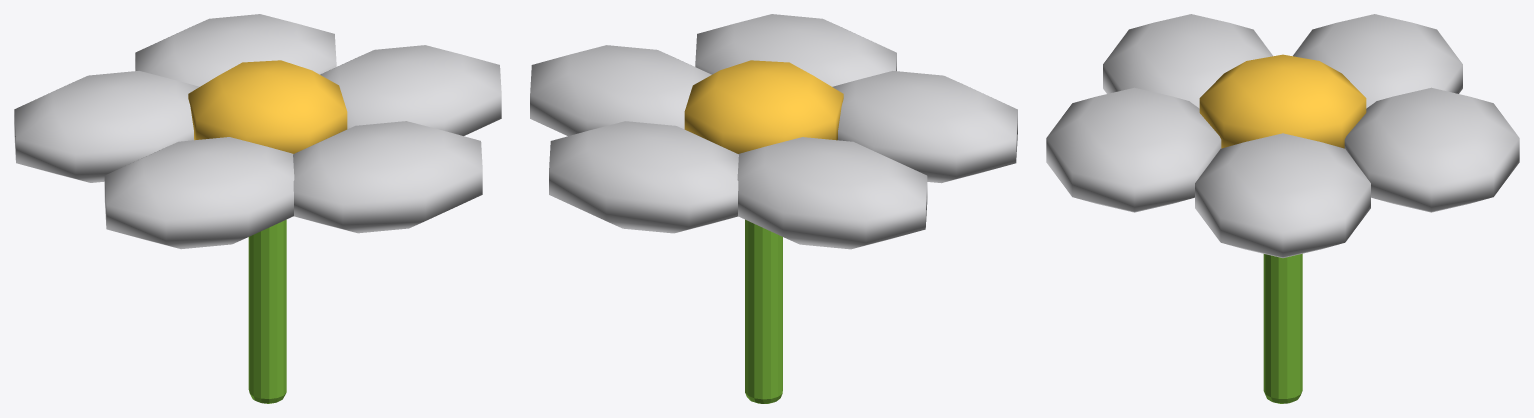
Rendered from flower.glb.
The picture shows the model from 3 angles, left to right: view 1: azimuth 30°, elevation 25°; view 2: azimuth 150°, elevation 25°; view 3: azimuth 270°, elevation 25°; orthographic projection.
Parts seen in each view (by area): view 1: white_mesh.014, gold_mesh.011, green_mesh; view 2: white_mesh.014, gold_mesh.011, green_mesh; view 3: white_mesh.014, gold_mesh.011, green_mesh.
Boxes of the visible parts, x1,y1,x2,y2 form: white_mesh.014: [14, 14, 501, 249]; gold_mesh.011: [188, 60, 347, 153]; green_mesh: [248, 219, 286, 403]; white_mesh.014: [530, 14, 1017, 249]; gold_mesh.011: [684, 60, 843, 153]; green_mesh: [745, 219, 782, 403]; white_mesh.014: [1046, 14, 1519, 257]; gold_mesh.011: [1199, 54, 1366, 148]; green_mesh: [1263, 253, 1302, 403].
Size of the model in its own units: 0.5272 by 0.375 by 0.485.
